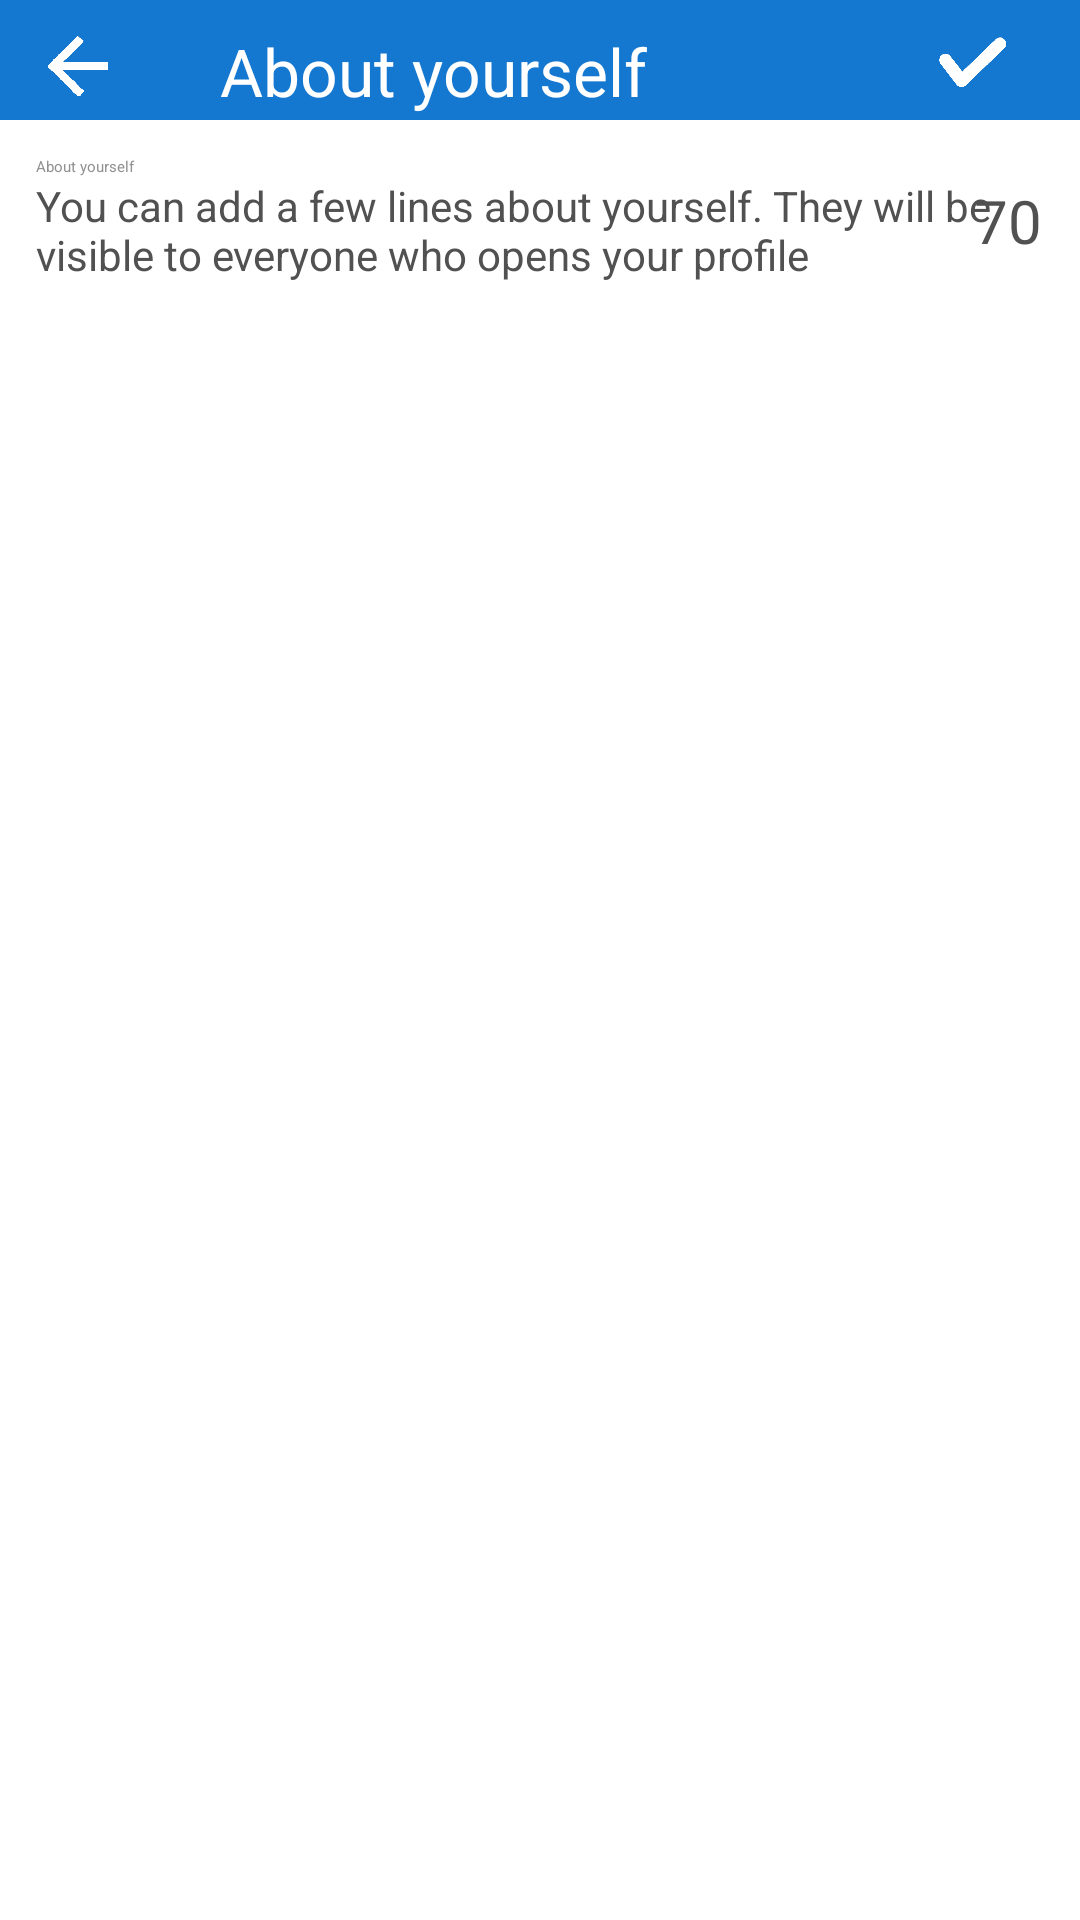

Point at icon controls on the screen. Image size 1080 × 1920, points as (x,y).
accept: (972,62)
arrow back: (78,66)
